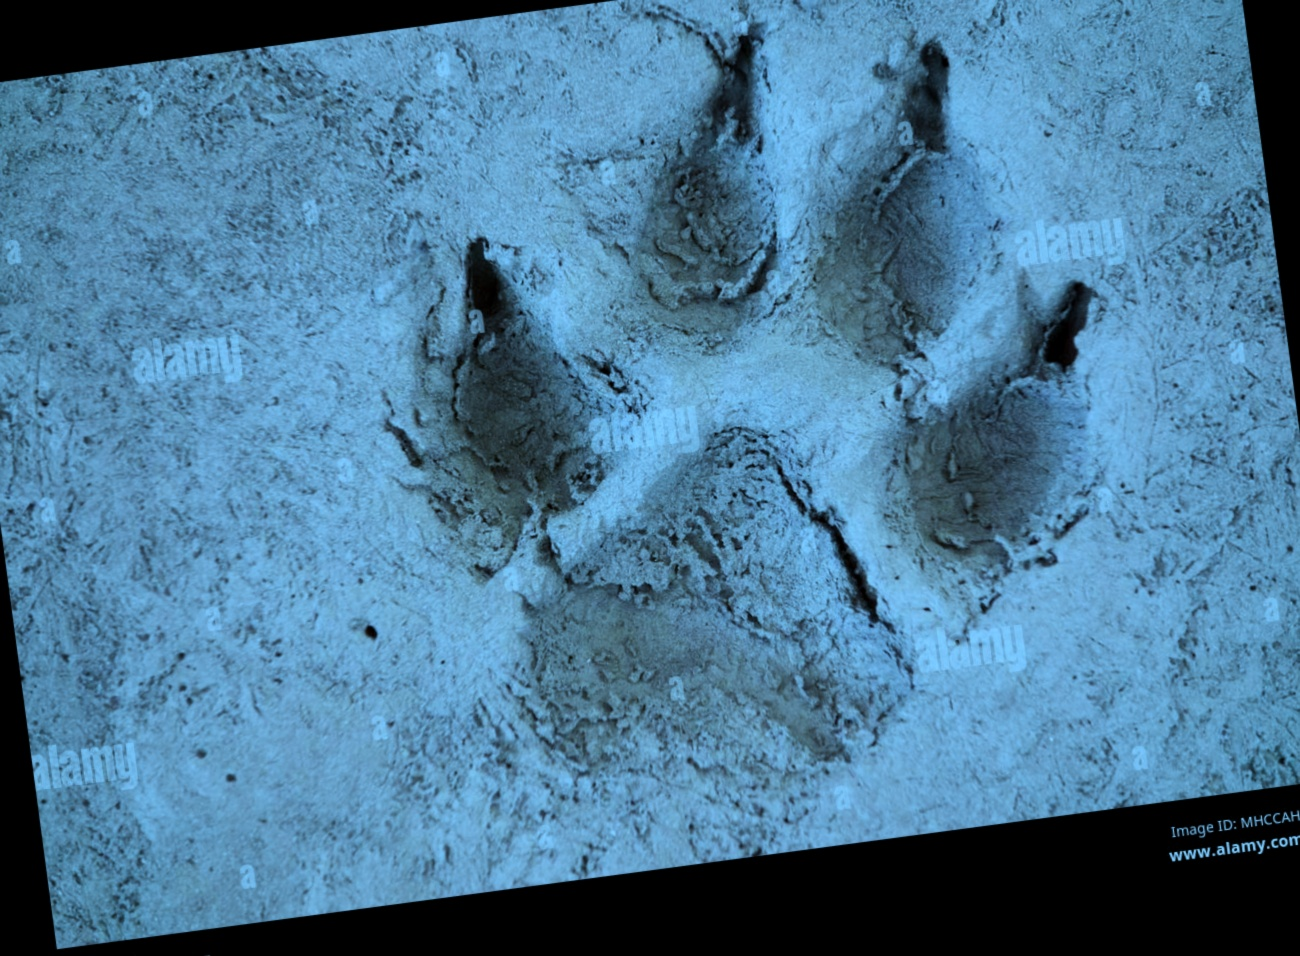loup: (320, 21, 1158, 820)
